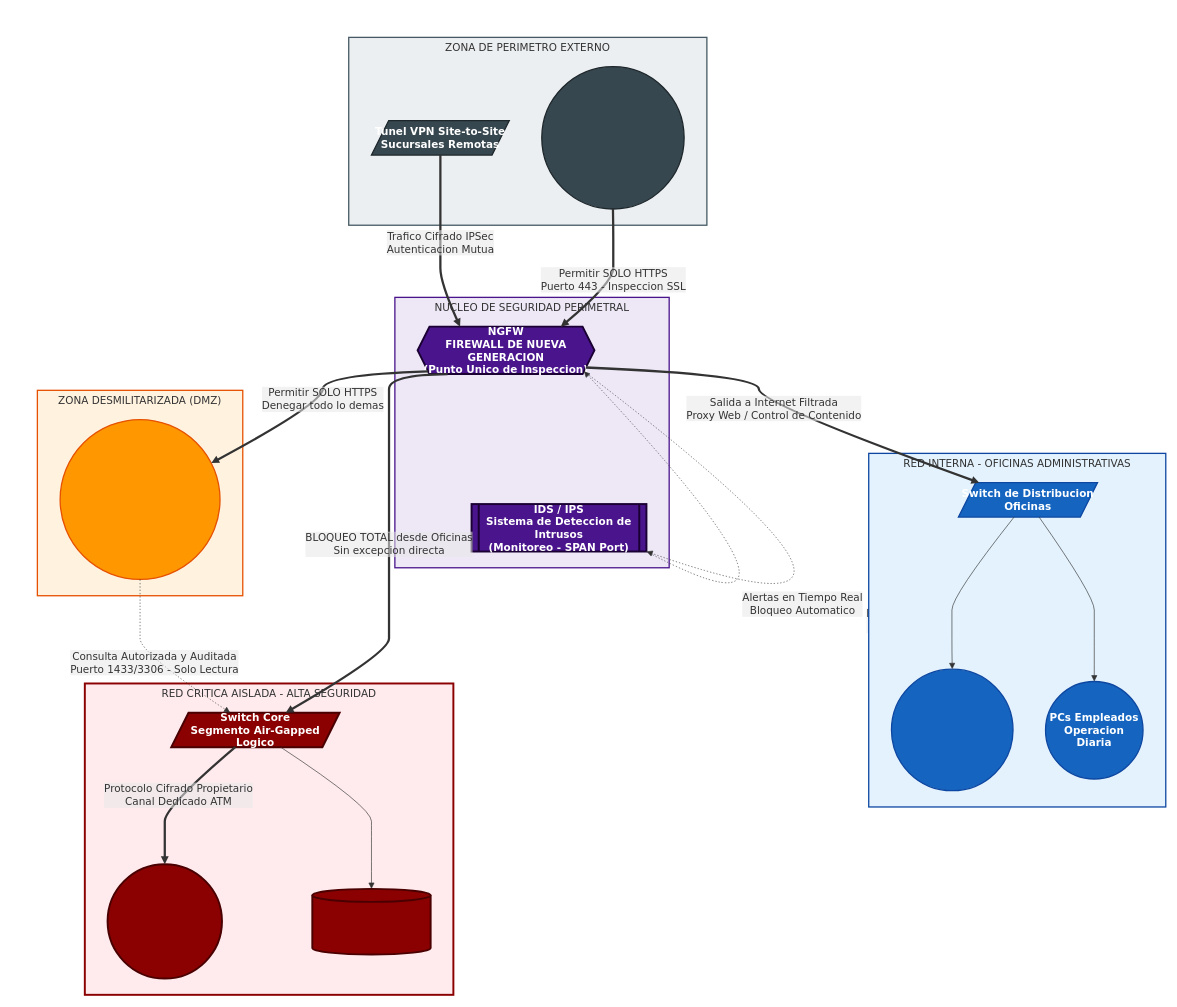
Some shapes in this 1177 by 1007 pixel diagram are drawn without their labels. The centre of each missing label's shape, as x and y in pixels:
Cajeros Automaticos Red ATM Dedicada: [164,921]
Datacenter Base de Datos Principal (Core Bancario): [371,921]
INTERNET Clientes / Publico General: [612,137]
PCs Gerencia Acceso Administrativo: [951,729]
Servidor Banca en Linea Plataforma Web Transaccional: [139,499]
